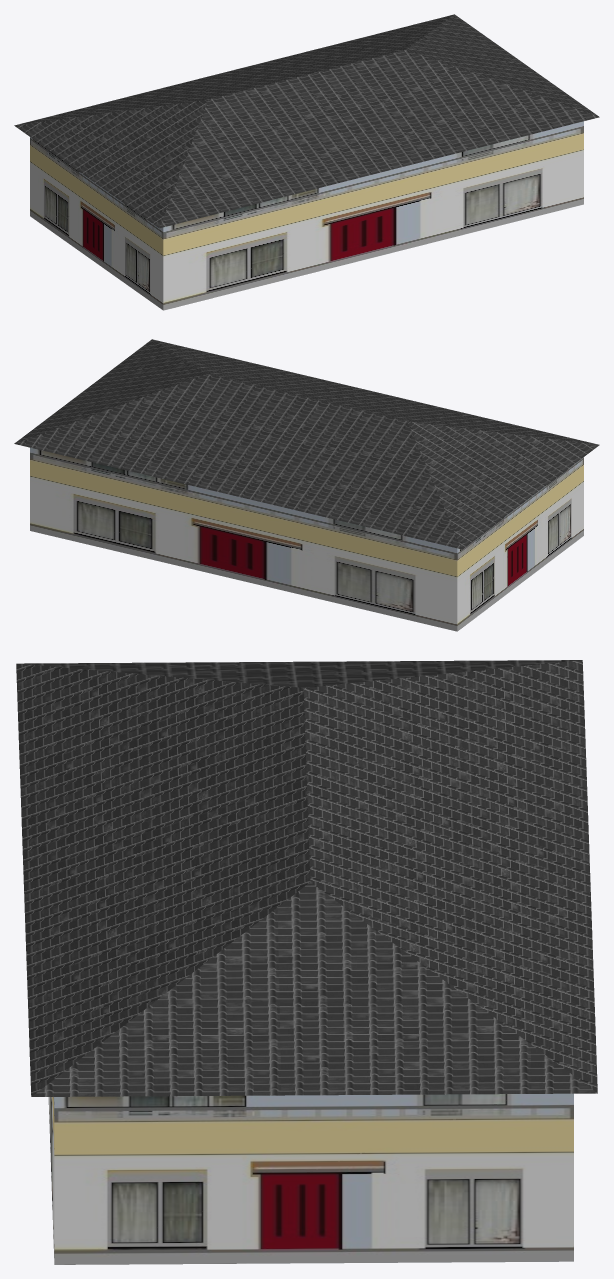
The picture shows the model from 3 angles, top to bottom: view 1: azimuth 30°, elevation 25°; view 2: azimuth 150°, elevation 25°; view 3: azimuth 270°, elevation 25°; orthographic projection. The views are drawn at different scales.
Visible parts, largest first — view 1: CityEngineMaterial_16_m, CityEngineMaterial_15_m; view 2: CityEngineMaterial_16_m, CityEngineMaterial_15_m; view 3: CityEngineMaterial_16_m, CityEngineMaterial_15_m.
Part boxes in pixels (<box>): CityEngineMaterial_16_m: <box>14,14,599,228</box>; CityEngineMaterial_15_m: <box>30,121,583,310</box>; CityEngineMaterial_16_m: <box>14,339,599,549</box>; CityEngineMaterial_15_m: <box>30,447,583,631</box>; CityEngineMaterial_16_m: <box>16,660,597,1096</box>; CityEngineMaterial_15_m: <box>48,1093,573,1264</box>.
Bounding box in the file's own units: 41.33 × 11.97 × 23.25.
